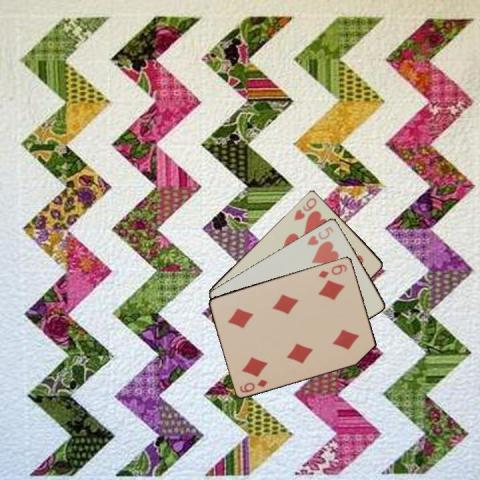5h: (304, 223, 335, 247)
6d: (315, 262, 349, 280), (236, 376, 268, 394)
9h: (291, 194, 318, 222)
